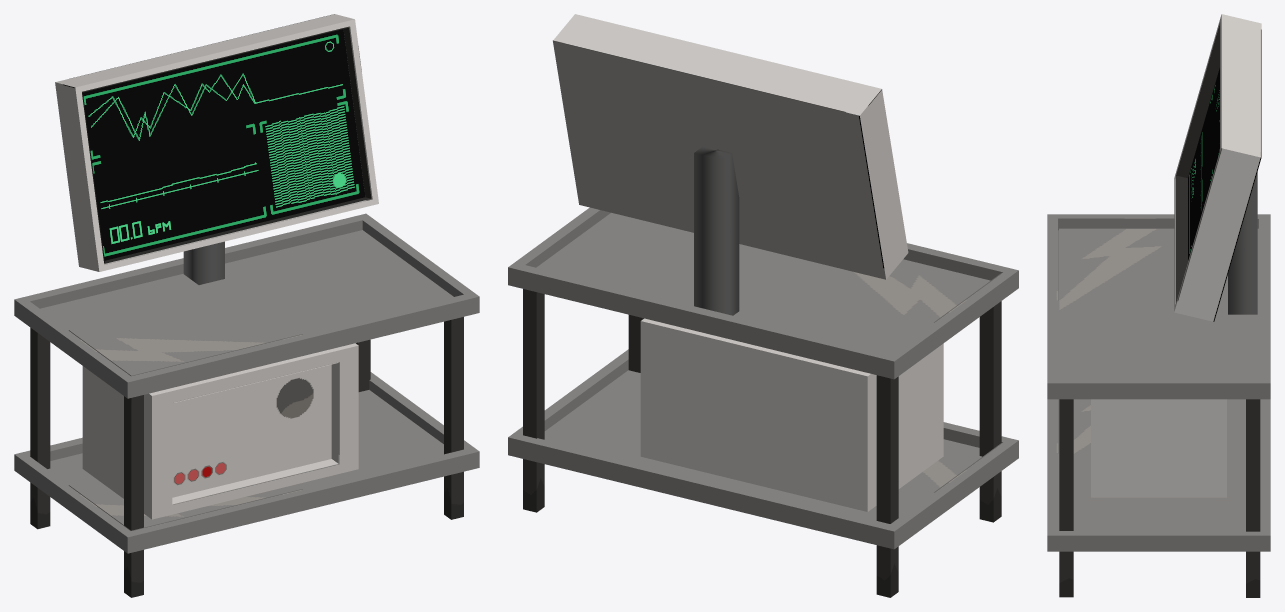
The model's file is medicalConsole.obj.
3 views of the same model, side by side, from view 1: azimuth 30°, elevation 25°; view 2: azimuth 150°, elevation 25°; view 3: azimuth 270°, elevation 25° (orthographic). The views are drawn at different scales.
Visible parts, largest first — view 1: Cube.004, Cube.001, Cube.003, Cube.005, Cube.006, Cube.002, Cube.008, Cube, Cube.007; view 2: Cube.004, Cube.001, Cube.003, Cube.005, Cube, Cube.008, Cube.007, Cube.002, Cube.006; view 3: Cube.001, Cube.004, Cube.005, Cube.003, Cube, Cube.007, Cube.006.
Part boxes in pixels (box(x1,y1,x2,y2)): Cube.004: box(55, 14, 378, 271); Cube.001: box(14, 213, 479, 398); Cube.003: box(82, 343, 358, 519); Cube.005: box(14, 372, 479, 553); Cube.006: box(444, 317, 463, 519); Cube.002: box(124, 395, 143, 597); Cube.008: box(30, 327, 50, 529); Cube: box(183, 241, 224, 284); Cube.007: box(356, 339, 370, 391); Cube.004: box(553, 14, 908, 279); Cube.001: box(508, 207, 1018, 379); Cube.003: box(640, 318, 943, 511); Cube.005: box(508, 349, 1018, 549); Cube: box(694, 146, 739, 315); Cube.008: box(876, 375, 898, 597); Cube.007: box(523, 289, 544, 512); Cube.002: box(979, 301, 1001, 522); Cube.006: box(628, 315, 643, 372); Cube.001: box(1047, 214, 1270, 399); Cube.004: box(1174, 14, 1261, 321); Cube.005: box(1047, 399, 1270, 551); Cube.003: box(1091, 399, 1226, 497); Cube: box(1228, 172, 1257, 314); Cube.007: box(1246, 399, 1260, 597); Cube.006: box(1059, 399, 1073, 597).
Bounding box in the file's own units: 5.87 × 7.07 × 3.28.
Materials: 9 (9 with a texture image).
